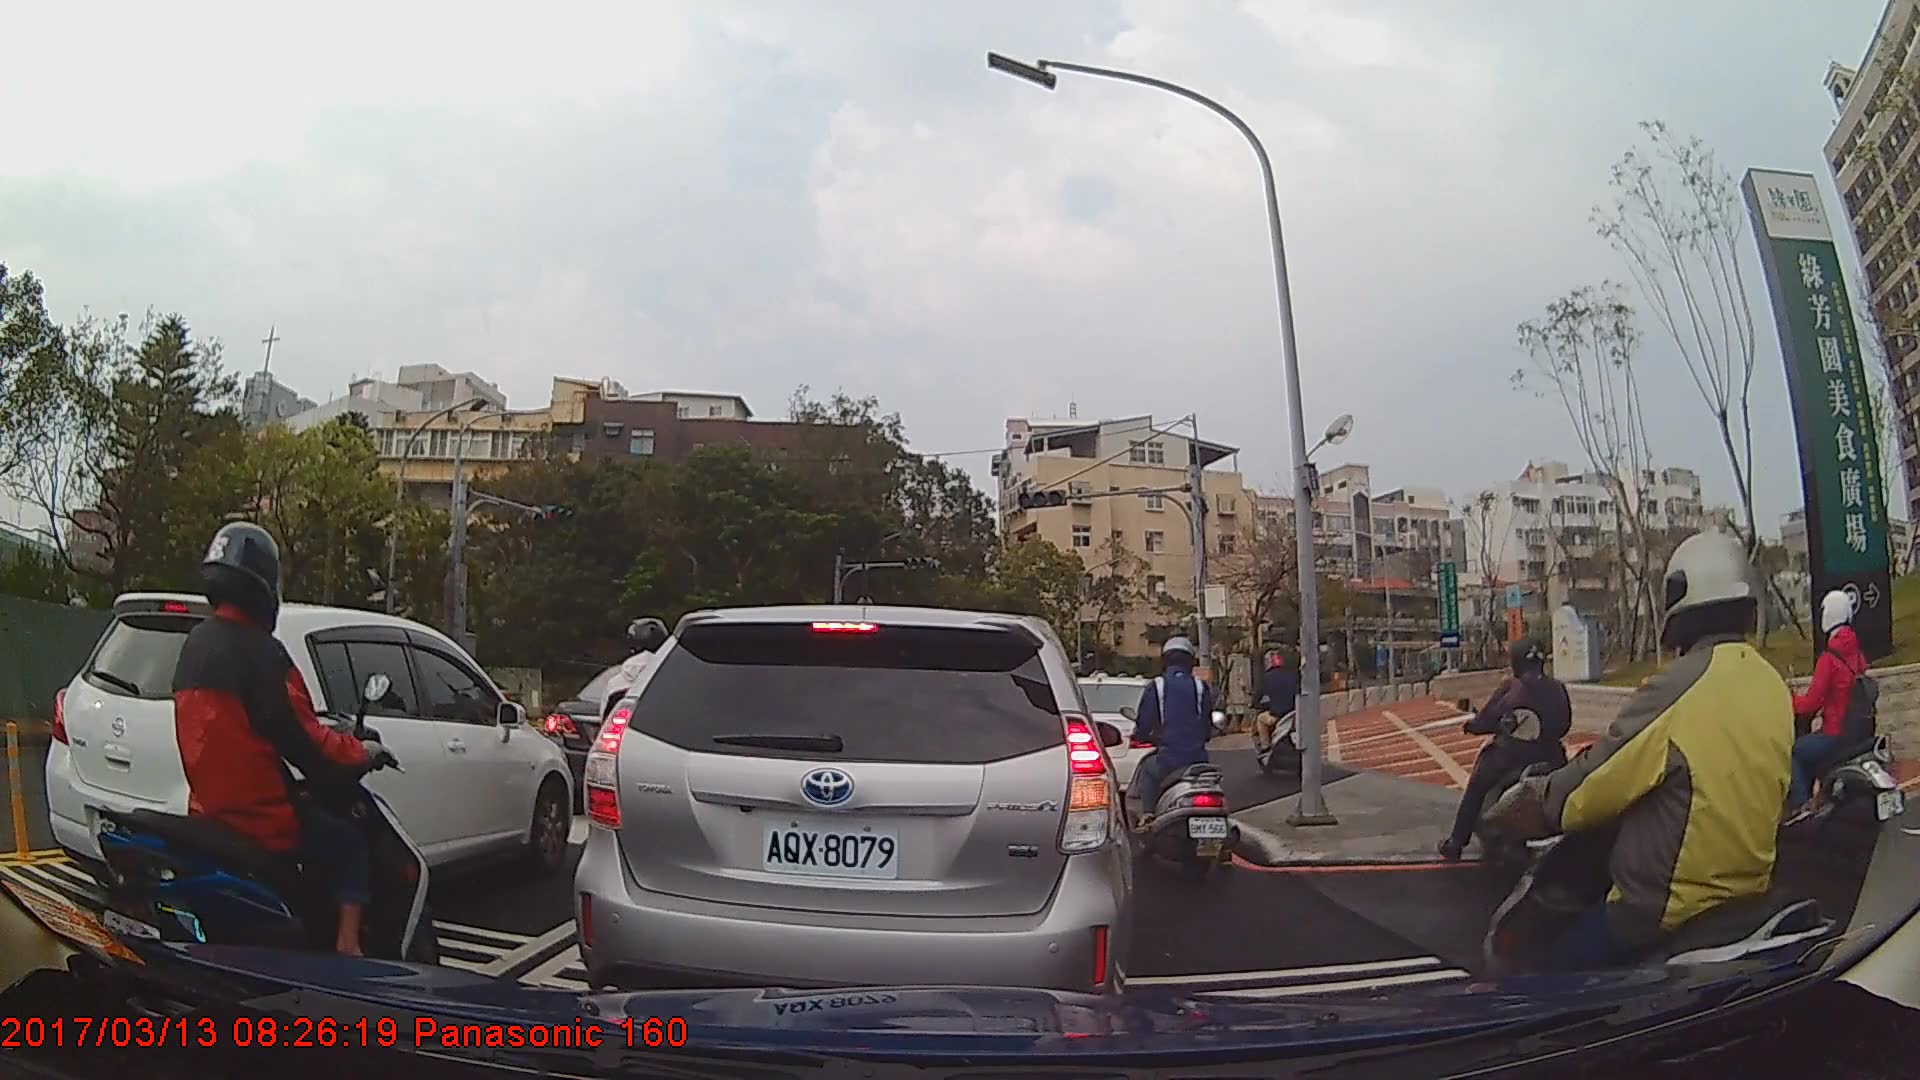rider: (1483, 528, 1853, 1061), (97, 518, 440, 1024), (1729, 590, 1907, 858), (1445, 633, 1580, 890), (1127, 636, 1239, 886), (1250, 649, 1320, 791)
vehicle: (572, 603, 1133, 1033), (46, 592, 573, 913)
